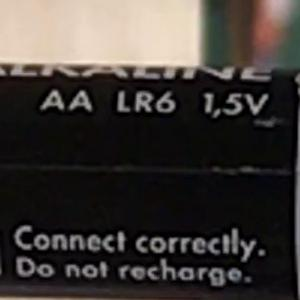LR6: (108, 83, 185, 121)
